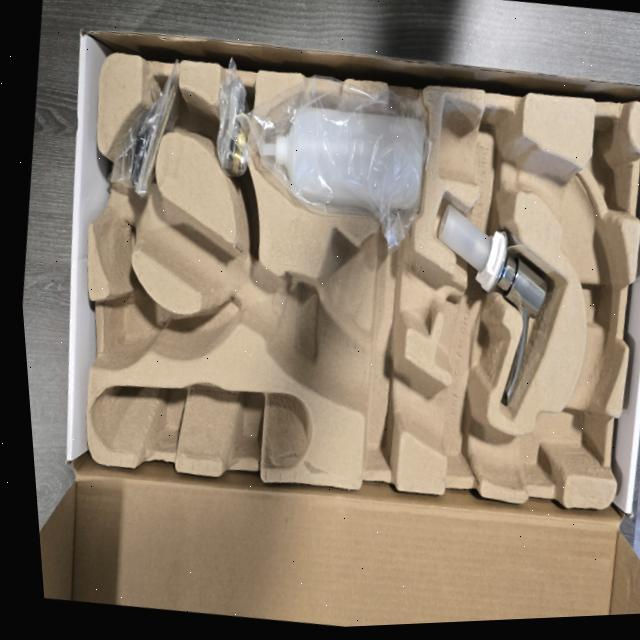1m: (92, 98, 629, 488)
2: (437, 202, 549, 405)
3: (257, 105, 426, 219)
4m: (92, 384, 311, 469)
5m: (107, 287, 166, 366)
6: (215, 54, 252, 183)
7: (106, 56, 181, 197)
